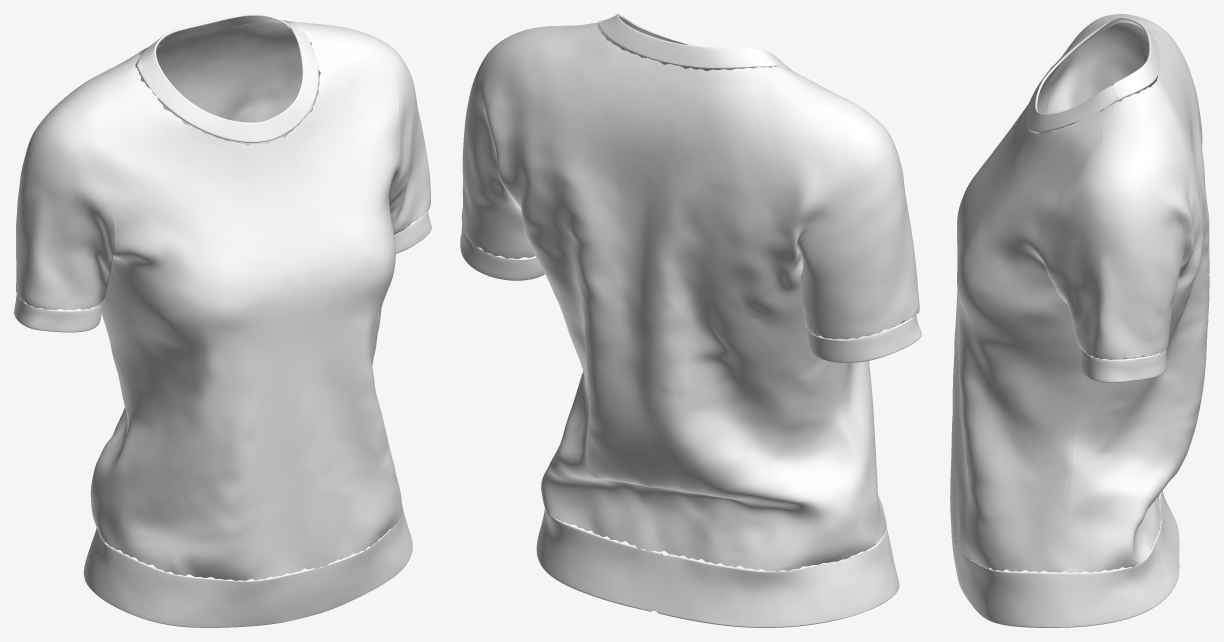
Rendered from moletom.glb.
3 views of the same model, side by side, from view 1: azimuth 30°, elevation 25°; view 2: azimuth 150°, elevation 25°; view 3: azimuth 270°, elevation 25° (orthographic). The views are drawn at different scales.
Parts seen in each view (by area): view 1: moletom; view 2: moletom; view 3: moletom.
Part boxes in pixels (x1,y1,x2,y2): moletom: [14, 14, 431, 627]; moletom: [460, 14, 921, 627]; moletom: [950, 14, 1209, 627].
Bounding box in the file's own units: 0.5841 × 0.72 × 0.3217.
Materials: 1 (1 with a texture image).
